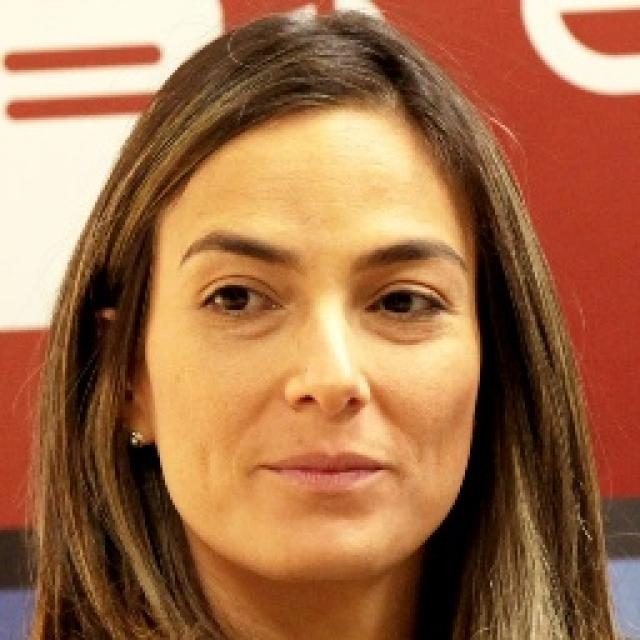earlobe: (120, 411, 156, 443)
eye: (364, 285, 449, 318), (203, 282, 280, 314)
nose: (284, 398, 371, 441)
wholeear: (97, 305, 156, 441)
